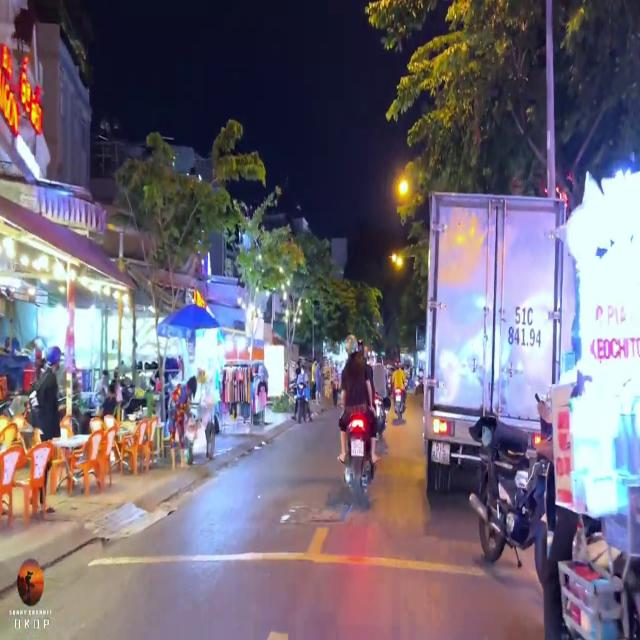bien_trang: (432, 438, 452, 464)
